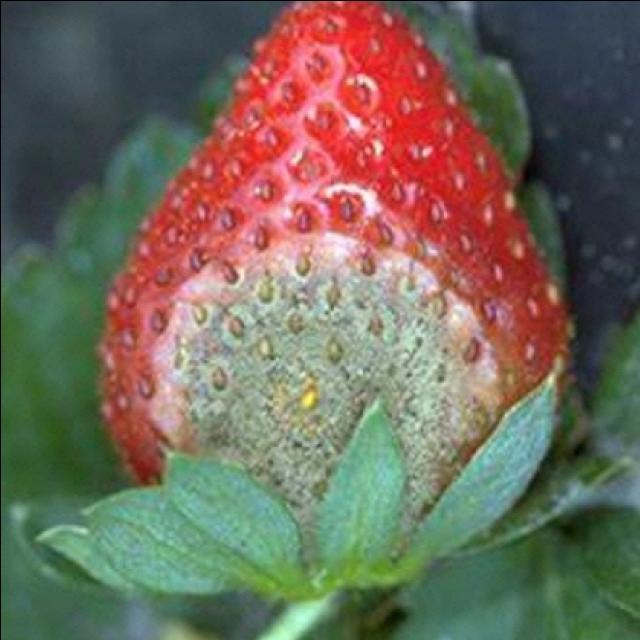Gray Mold: (146, 228, 522, 567)
